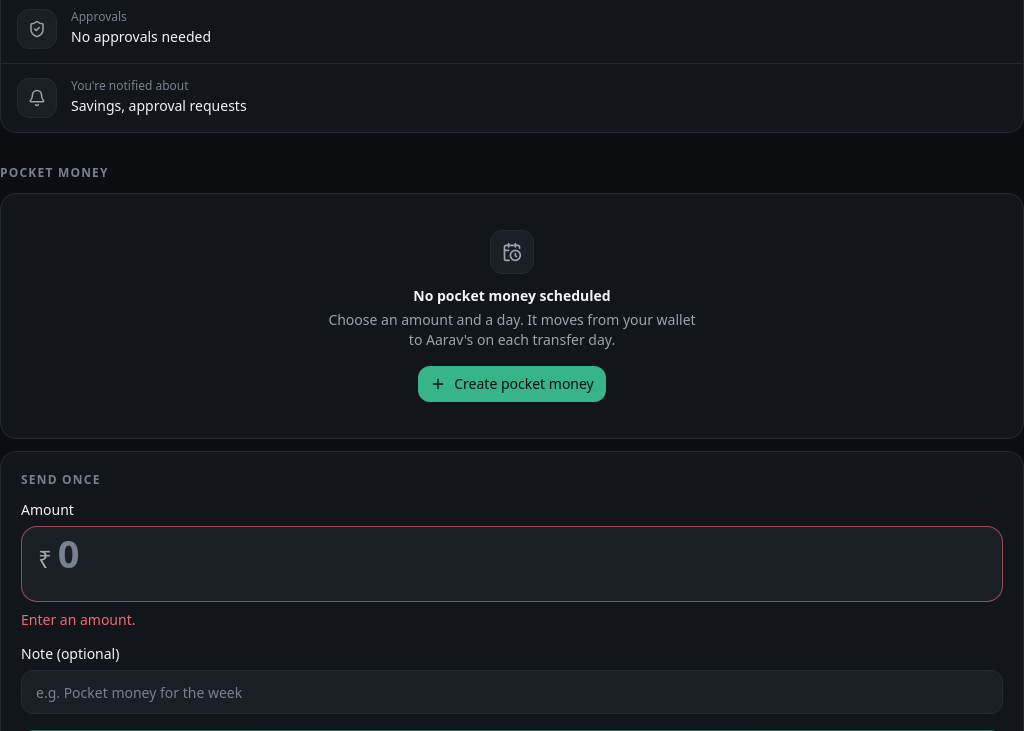
Scenario: parent dashboard › previews a weekly pocket-money schedule
(page scrolled)
Expected: the text "No pocket money scheduled" is shown, [413,286,611,306]
Click the button "Create pocket money".
click(512, 384)  # box [418,366,606,402]
(page scrolled)
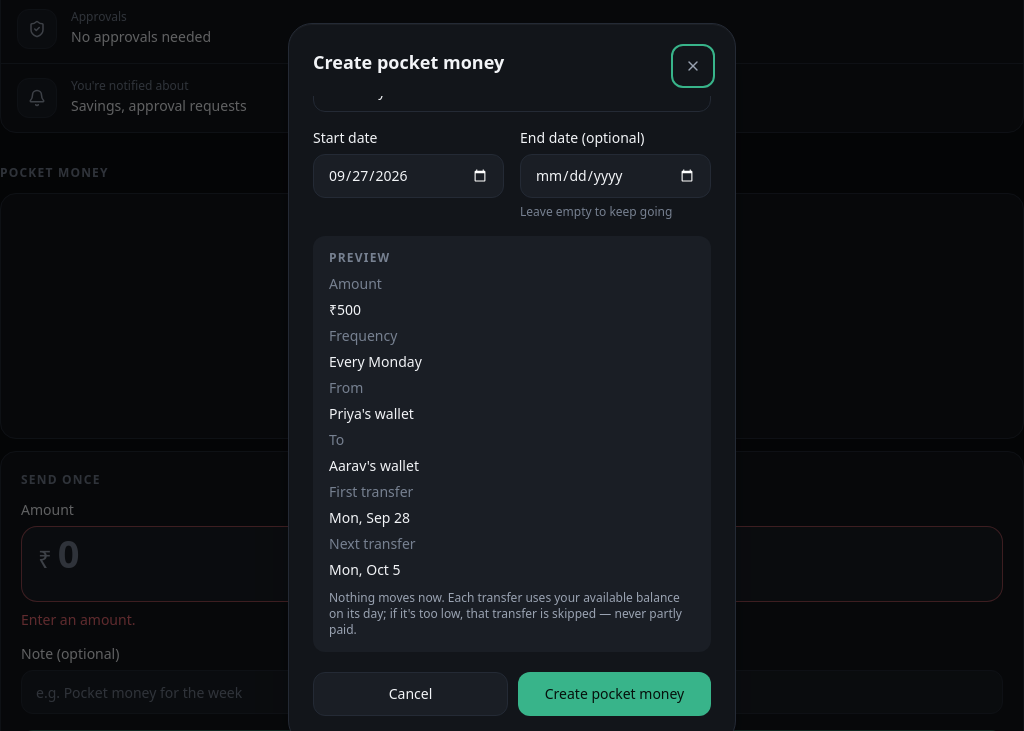
Result: the element "Preview" shows "₹500" at [329,300,361,319]
Result: the element "Preview" shows "Every Monday" at [329,352,422,371]
Result: the element "Preview" shows "Priya's wallet" at [313,236,711,652]
Click the button "Create pocket money".
click(614, 694)  # box [518,672,711,716]
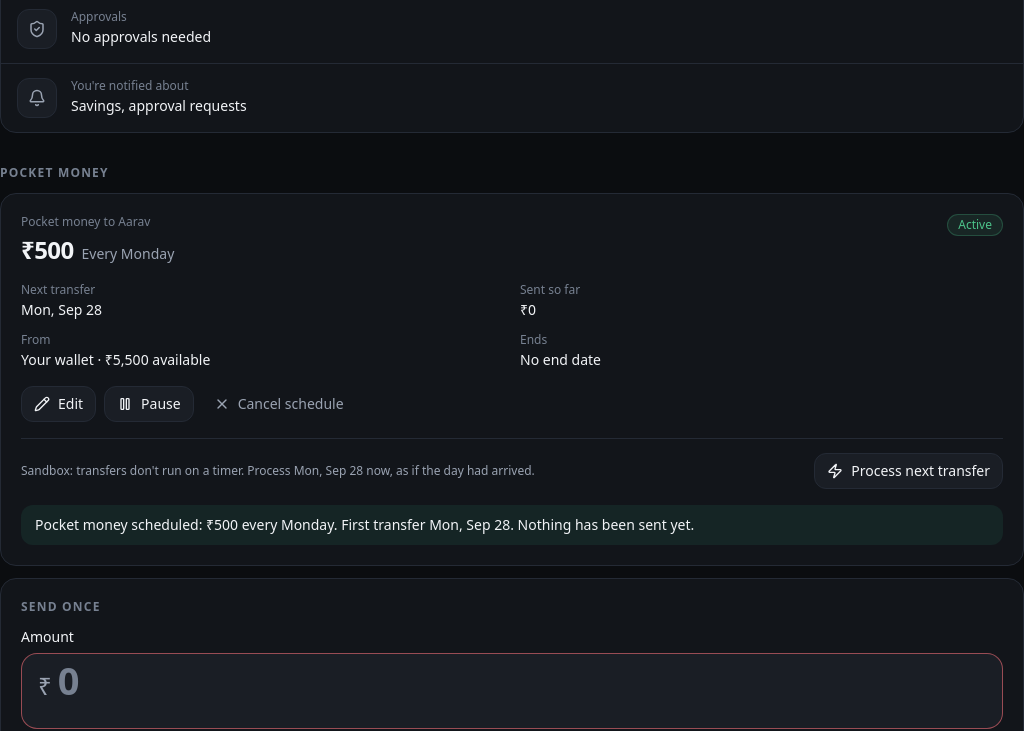
Result: the text "Pocket money to Aarav" is shown at [21,213,150,230]
Result: the text "Every Monday" is shown at [82,244,174,264]
Result: the text "Active" is shown at [947,214,1003,236]
